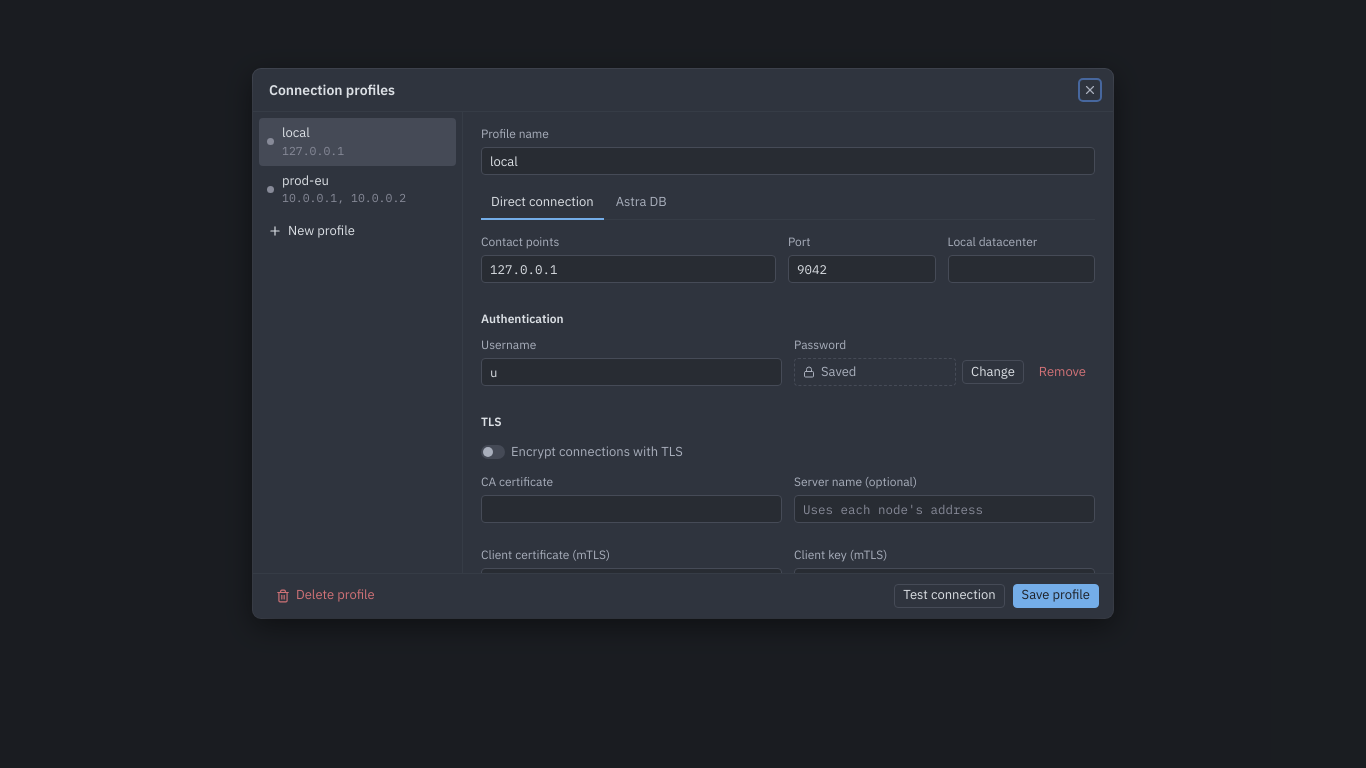
Test: ProfileDialog › shows save errors from the API
Click the button "Save profile".
click(1056, 596)  # box x1=1013 y1=584 x2=1099 y2=608
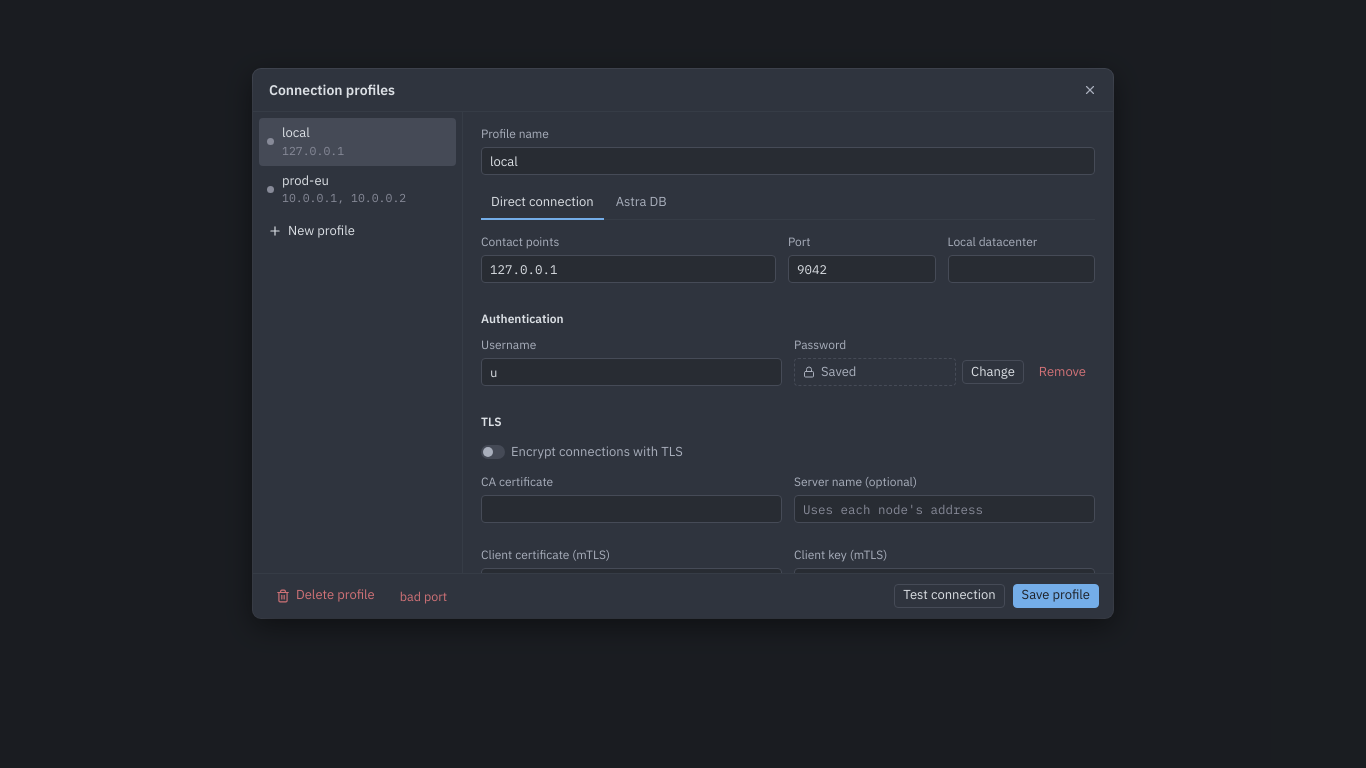
Expected: the message reads "bad port", x1=400 y1=588 x2=447 y2=604
